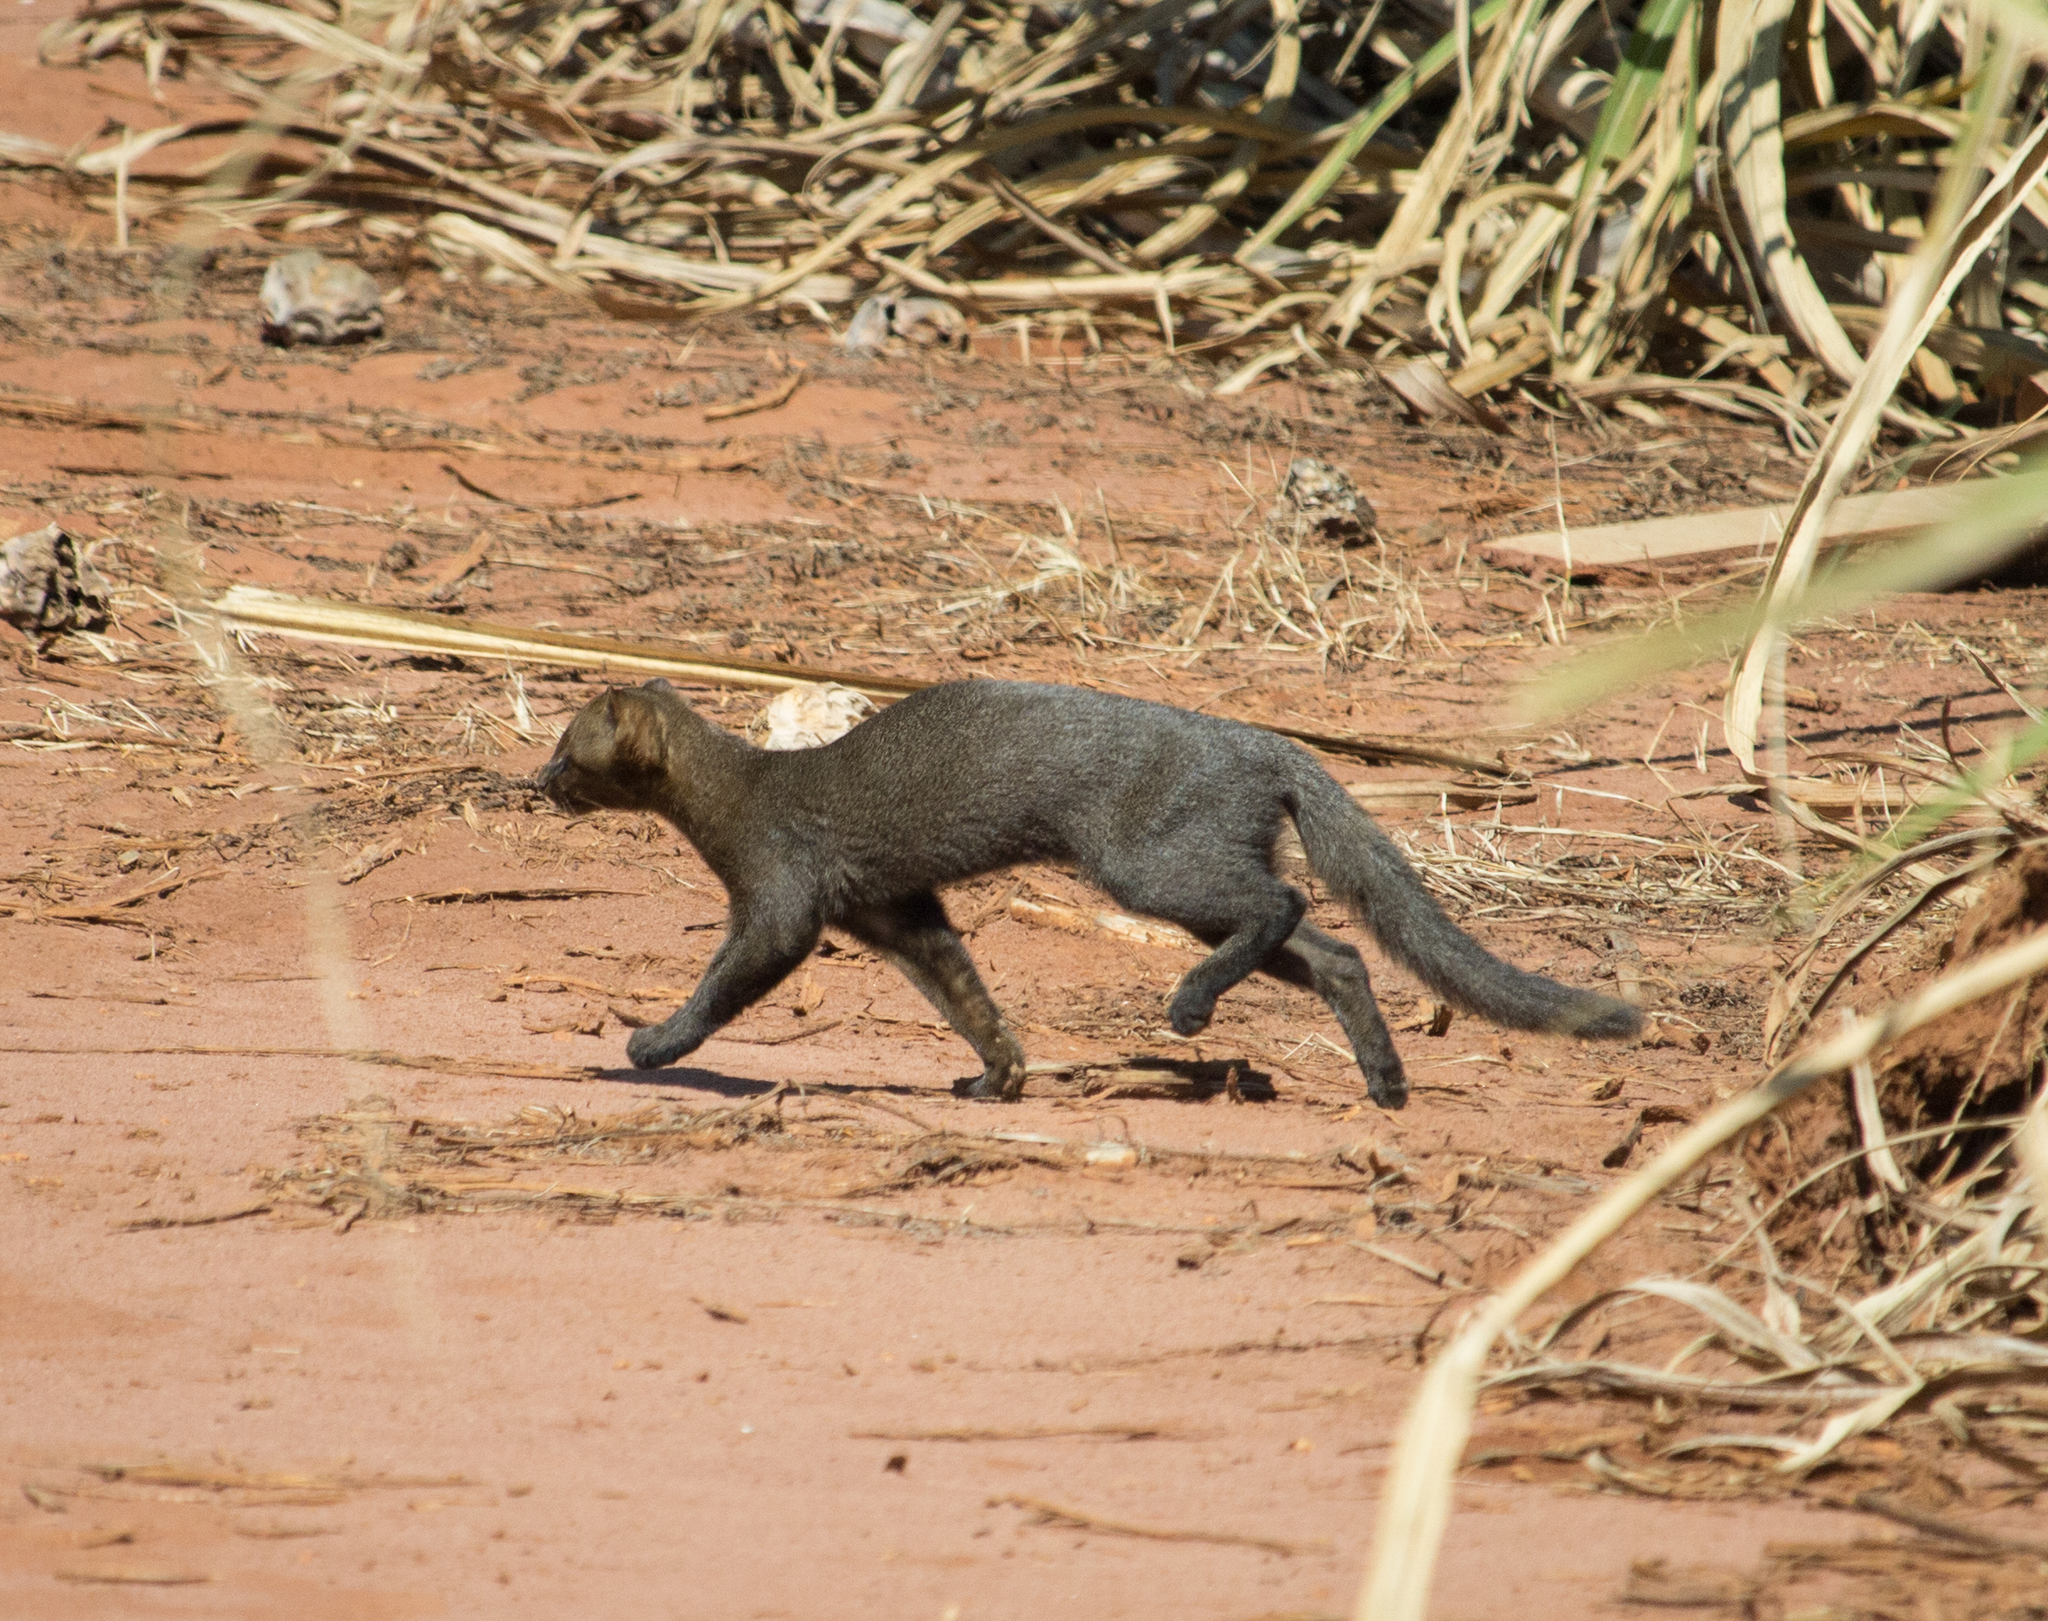Jaguarundi: (512, 645, 1647, 1146)
